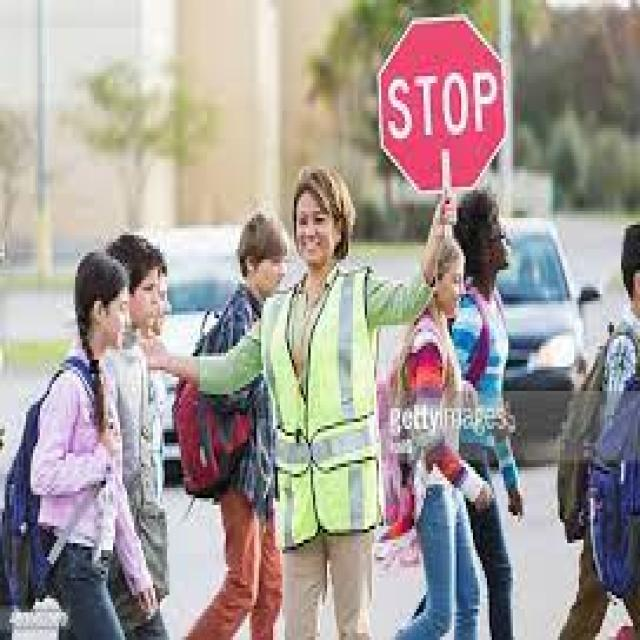Pedestrians: (259, 173, 386, 640), (14, 253, 151, 636)
